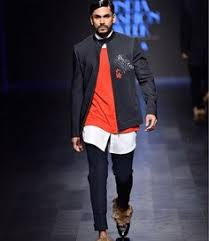Indian_Male: (90, 3, 114, 39)
